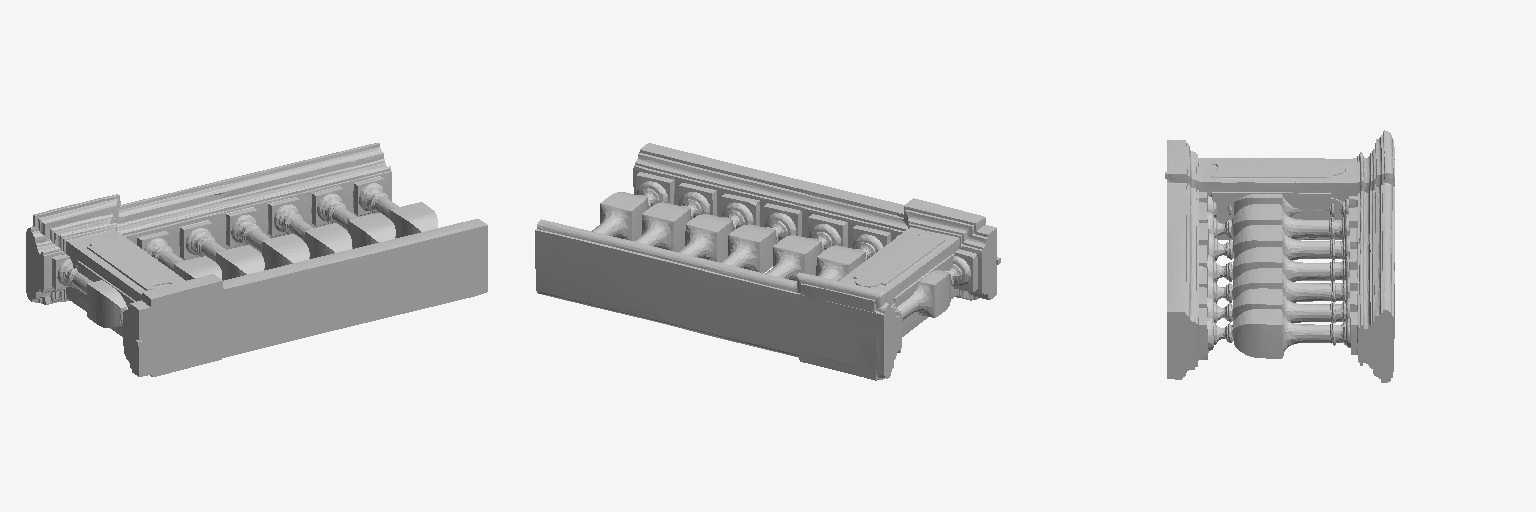
3 renders of one model, left to right at view 1: azimuth 30°, elevation 25°; view 2: azimuth 150°, elevation 25°; view 3: azimuth 270°, elevation 25°, orthographic.
Visible parts, largest first — view 1: Aset_interior_railing_M_wk5odbadw_00_LOD0, Aset_interior_railing_M_wk5odbadw_01_LOD0; view 2: Aset_interior_railing_M_wk5odbadw_00_LOD0, Aset_interior_railing_M_wk5odbadw_01_LOD0; view 3: Aset_interior_railing_M_wk5odbadw_00_LOD0, Aset_interior_railing_M_wk5odbadw_01_LOD0.
Part boxes in pixels (x1,y1,x2,y2): Aset_interior_railing_M_wk5odbadw_00_LOD0: (26,143,487,376); Aset_interior_railing_M_wk5odbadw_01_LOD0: (26,194,231,376); Aset_interior_railing_M_wk5odbadw_00_LOD0: (535,143,996,378); Aset_interior_railing_M_wk5odbadw_01_LOD0: (794,198,996,380); Aset_interior_railing_M_wk5odbadw_00_LOD0: (1167,148,1394,382); Aset_interior_railing_M_wk5odbadw_01_LOD0: (1167,130,1394,239).
Size of the model in its own units: 151 by 35.87 by 86.